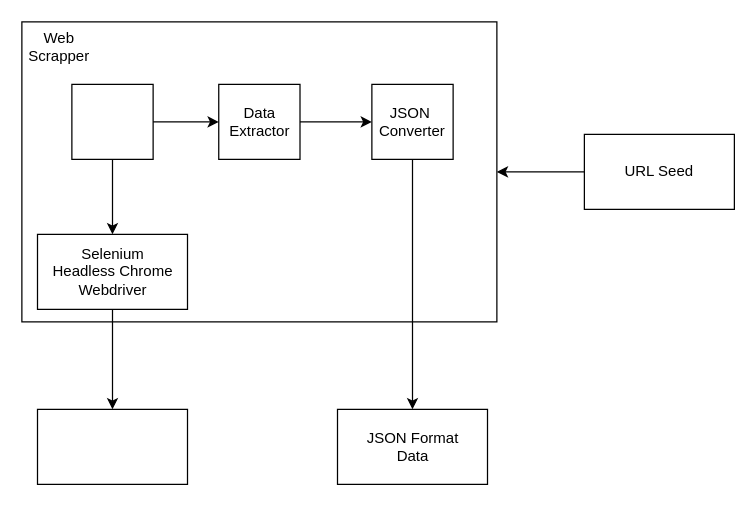
The diagram is 756 pixels wide and 506 high, and some of its shapes have lost their labels. Here are the shapes that lost their labels. From the top down, the centre of each, then its label:
the point at 112,121: Data Scrapper
the point at 112,446: Webpage URL
